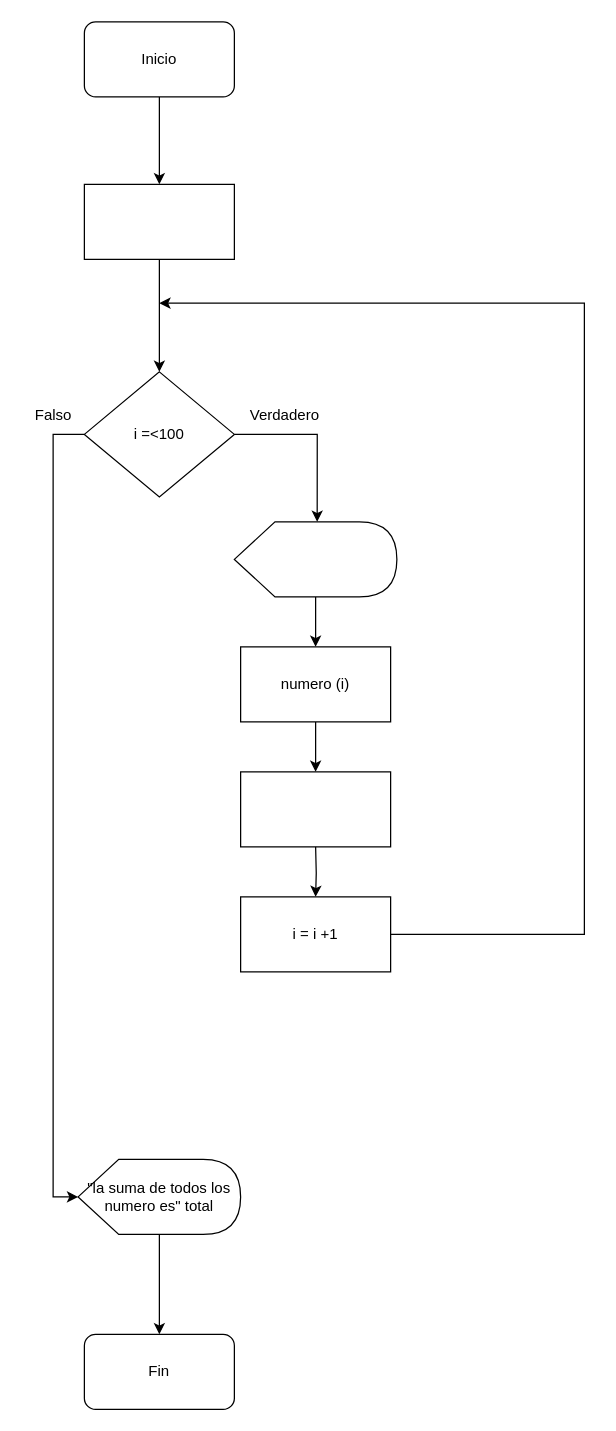
The diagram is 616 pixels wide and 1431 high, and some of its shapes have lost their labels. Here are the shapes that lost their labels. From the top down, the centre of each, then its label:
the point at 158,221: i = 1 total = 0
the point at 315,559: "Ingrese le numero"(i)
the point at 315,809: total = total + numero(i)
